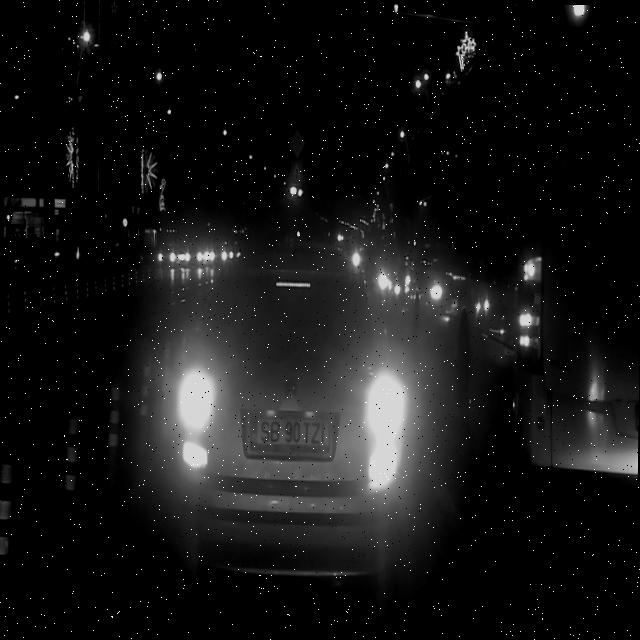Autre: (247, 401, 335, 455)
